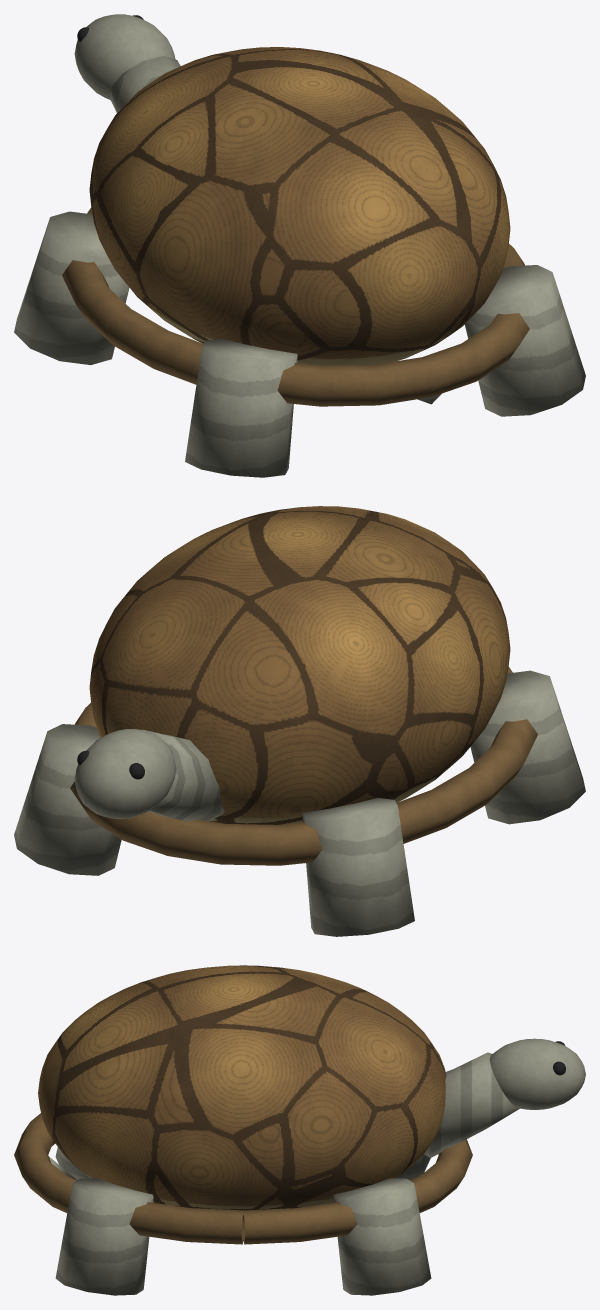
File: tortoise.glb
3 renders of one model, top to bottom at view 1: azimuth 30°, elevation 25°; view 2: azimuth 150°, elevation 25°; view 3: azimuth 270°, elevation 25°, orthographic. The views are drawn at different scales.
Visible parts, largest first — view 1: Body, Head; view 2: Body, Head; view 3: Body, Head.
Part boxes in pixels (bbox=[...]): Body: bbox=[14, 47, 585, 477]; Head: bbox=[74, 14, 180, 112]; Body: bbox=[14, 506, 585, 936]; Head: bbox=[74, 729, 224, 821]; Body: bbox=[14, 965, 472, 1295]; Head: bbox=[424, 1038, 585, 1157].
Size of the model in its own units: 1.1 by 0.7967 by 1.67.
1 material, 1 textured.
